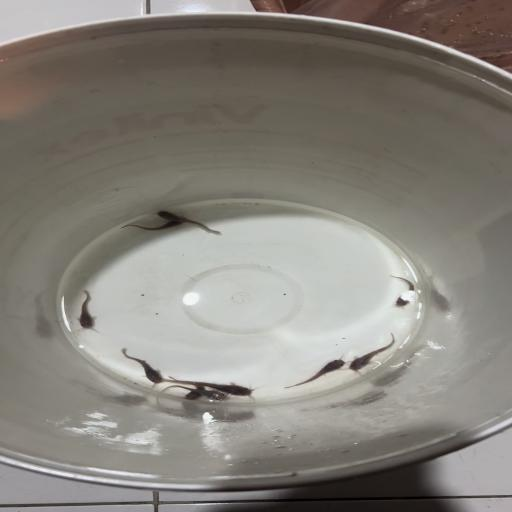lele: (283, 352, 350, 390), (158, 377, 260, 399), (348, 332, 398, 374), (156, 210, 222, 236), (120, 348, 164, 384), (162, 385, 228, 404), (166, 374, 206, 402), (76, 288, 100, 334), (388, 273, 416, 308), (120, 216, 190, 230)
